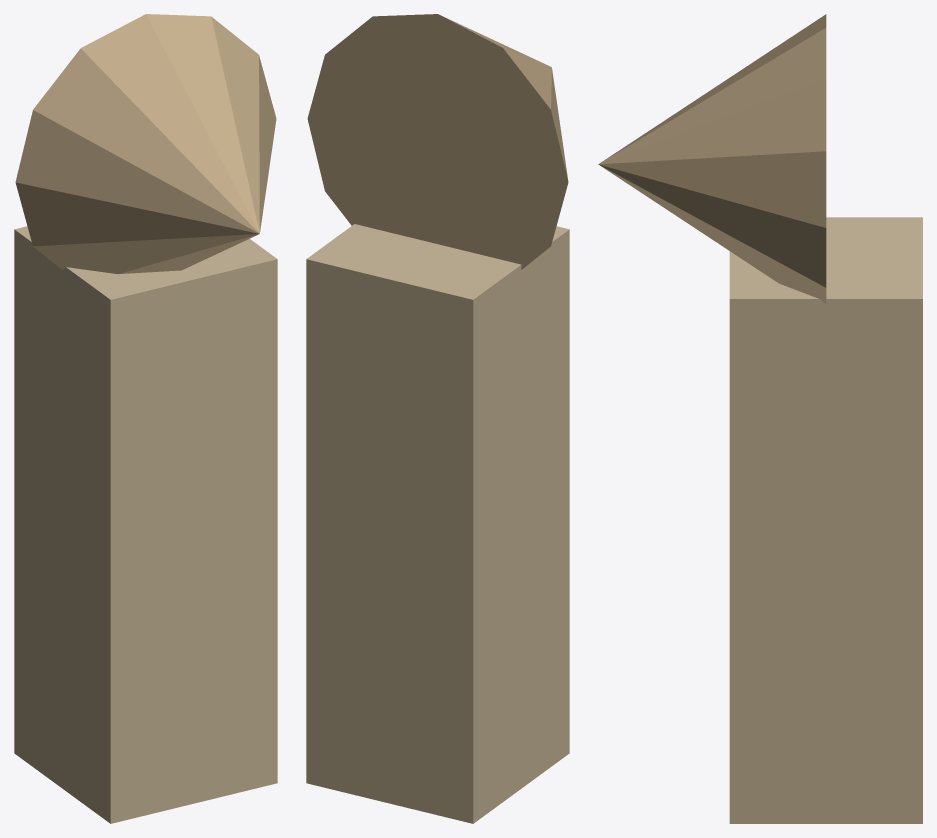
The model's file is world_08.glb.
3 views of the same model, side by side, from view 1: azimuth 30°, elevation 25°; view 2: azimuth 150°, elevation 25°; view 3: azimuth 270°, elevation 25° (orthographic).
Parts seen in each view (by area): view 1: obelisk, obelisk-tip; view 2: obelisk, obelisk-tip; view 3: obelisk, obelisk-tip.
Boxes of the visible parts, x1=… form: obelisk: x1=14, y1=226, x2=277, y2=823; obelisk-tip: x1=15, y1=14, x2=276, y2=274; obelisk: x1=306, y1=224, x2=569, y2=823; obelisk-tip: x1=307, y1=14, x2=568, y2=269; obelisk: x1=729, y1=217, x2=922, y2=823; obelisk-tip: x1=598, y1=14, x2=826, y2=303.
Size of the model in its own units: 0.86 by 2.38 by 0.925.
